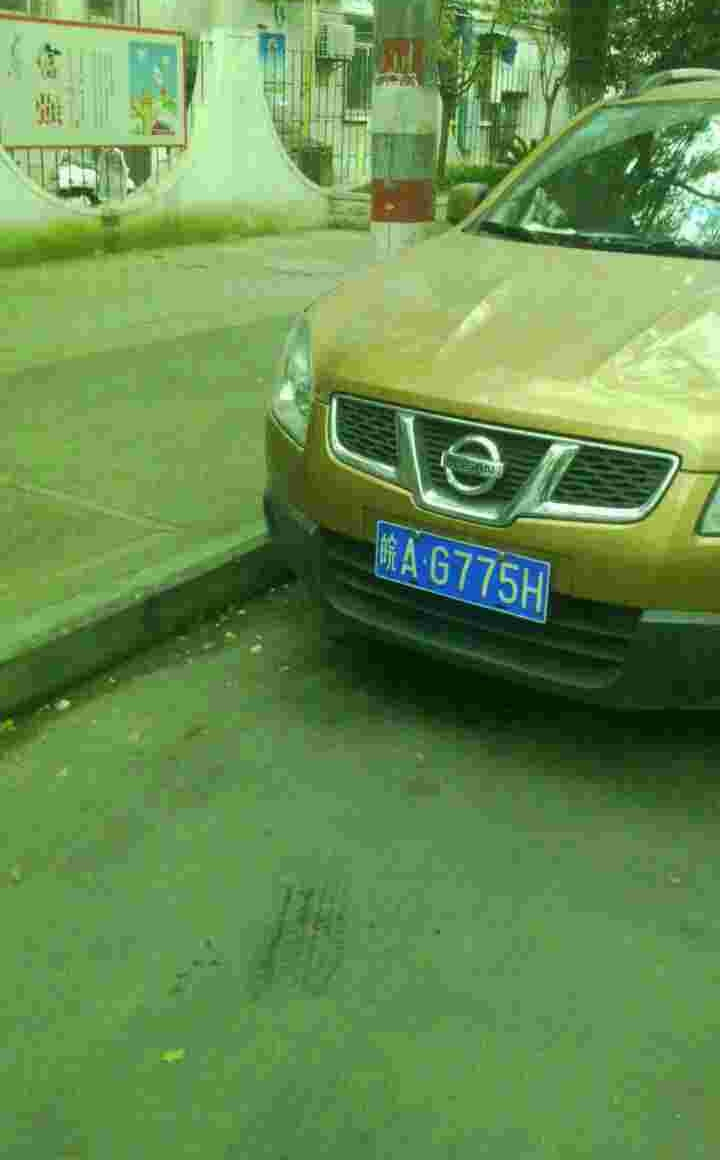plate: (371, 514, 553, 627)
